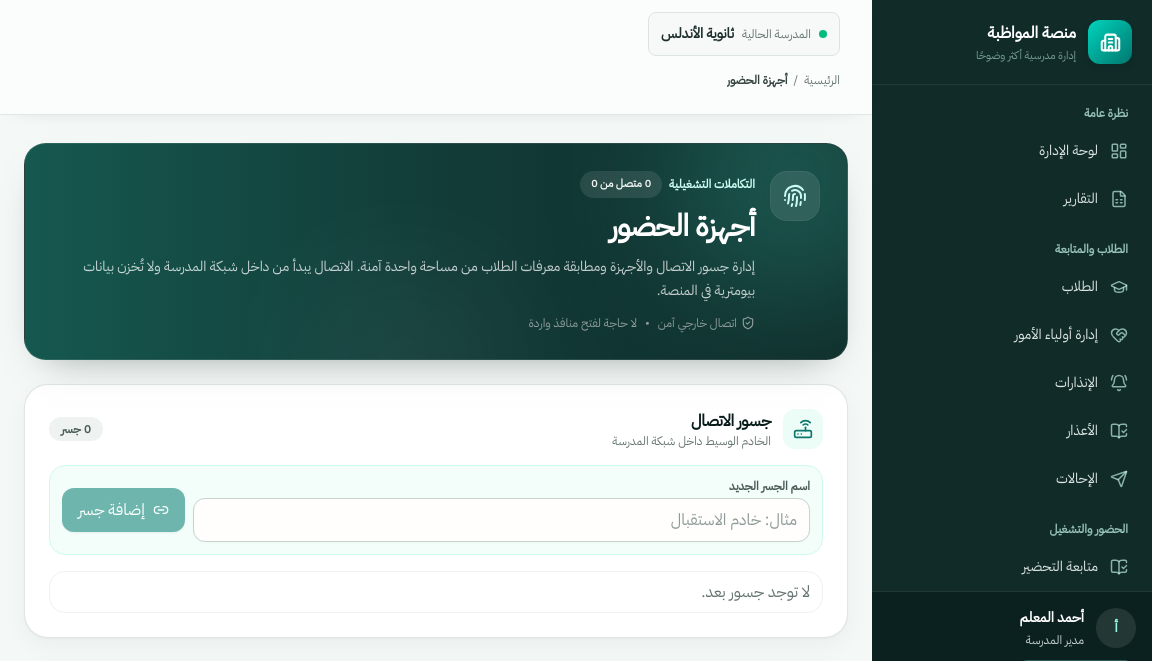
Test case: devices settings UI (Phase 8.5) › creates a bridge and shows the credential exactly once
Expected: the list with test id "bridges-list" is shown, [49,570,823,612]
In the field labelled "اسم الجسر": (501, 520) [193,498,810,542], type "جسر الاستقبال"
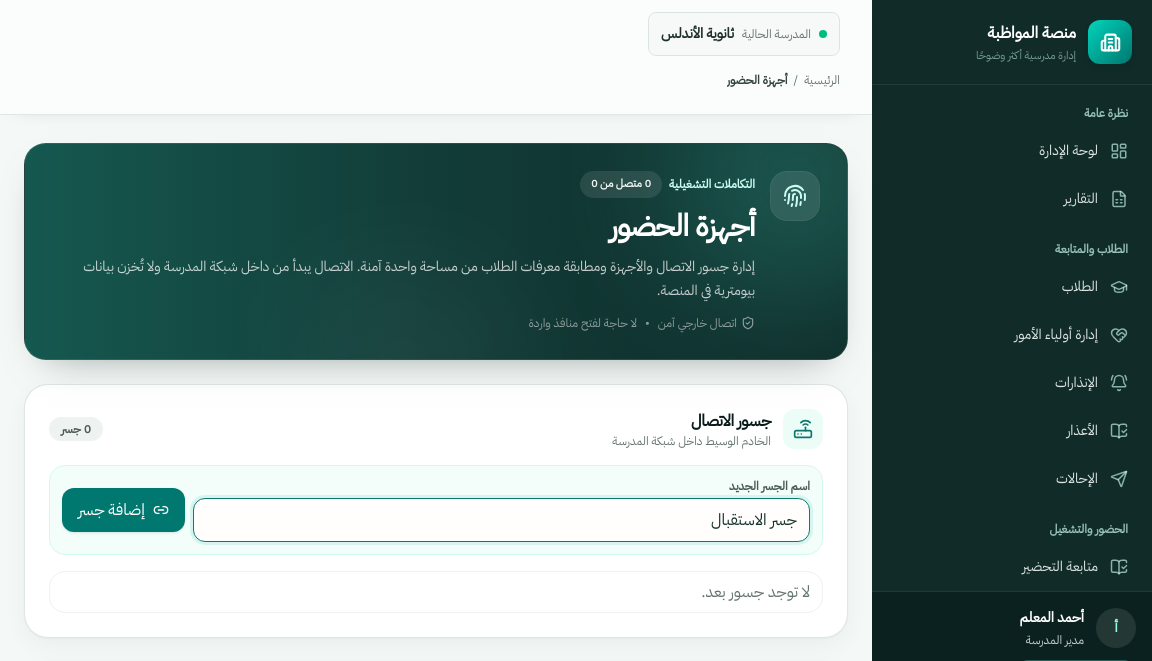
Click the button with test id "add-bridge": click(123, 510) [62,488,185,532]
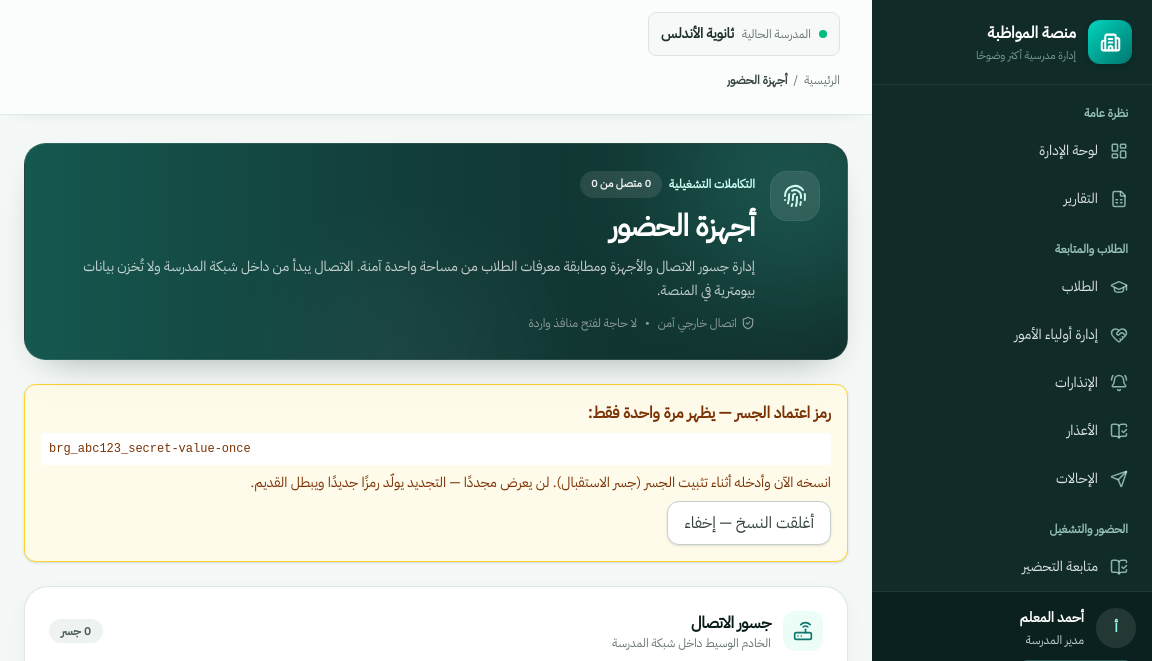
Now the element with test id "bridge-credential-box" shows "brg_abc123_secret-value-once", box [49,442,251,456]
Now the element with test id "bridge-credential-box" shows "يظهر مرة واحدة", box [588,400,831,424]
